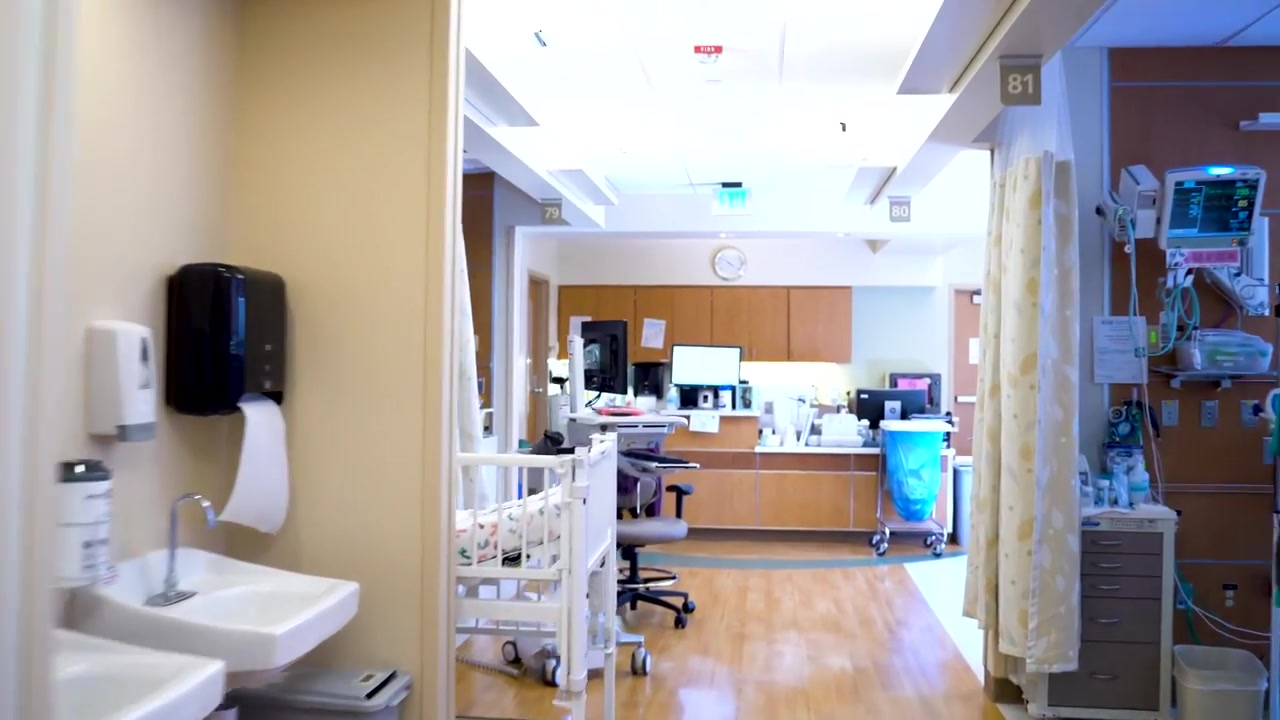bedrail: (459, 449, 569, 574), (459, 575, 561, 628)
bedside_monitor: (1157, 163, 1265, 249)
cabinet: (557, 286, 852, 363)
chair: (617, 473, 695, 630)
computer: (580, 319, 629, 395), (856, 386, 929, 431), (670, 344, 742, 388)
curtain: (962, 49, 1084, 674), (451, 217, 496, 512)
dispenser: (164, 261, 287, 417), (45, 459, 122, 584), (82, 320, 159, 445)
faucet: (162, 490, 222, 600)
foot_board: (573, 439, 618, 571)
handle: (1087, 536, 1125, 549), (1087, 559, 1126, 571), (1088, 581, 1124, 593), (1087, 616, 1123, 627), (1085, 673, 1121, 682)
hospital_bed: (443, 432, 624, 720)
keyboard: (622, 449, 693, 465)
medical_drawer: (1033, 507, 1179, 720)
push_latch: (955, 394, 976, 404)
sink: (67, 546, 364, 672), (33, 621, 232, 720)
utility_cart: (870, 417, 949, 559)
waste_bin: (240, 671, 413, 720), (1172, 643, 1270, 720), (878, 422, 942, 520), (953, 460, 974, 546)
